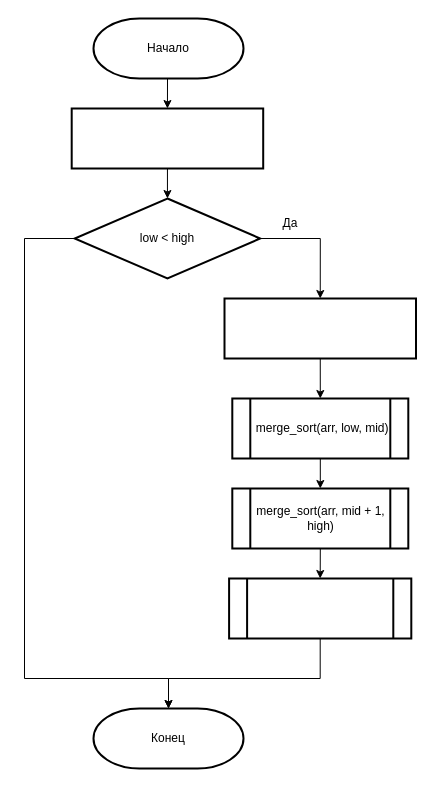
Some shapes in this 434 by 786 pixel diagram are drawn without their labels. The centre of each missing label's shape, as x and y in pixels:
"arr, low, high" belongs at point 167,138.
"merge(arr, low, high, mid)" belongs at point 320,608.
"mid = (low + high) / 2" belongs at point 319,328.
